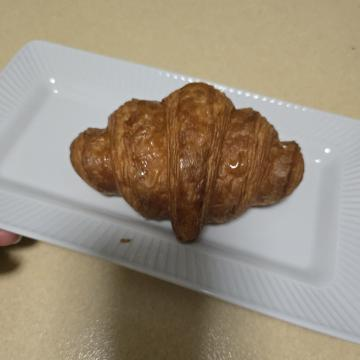croissant: (70, 47, 264, 301)
